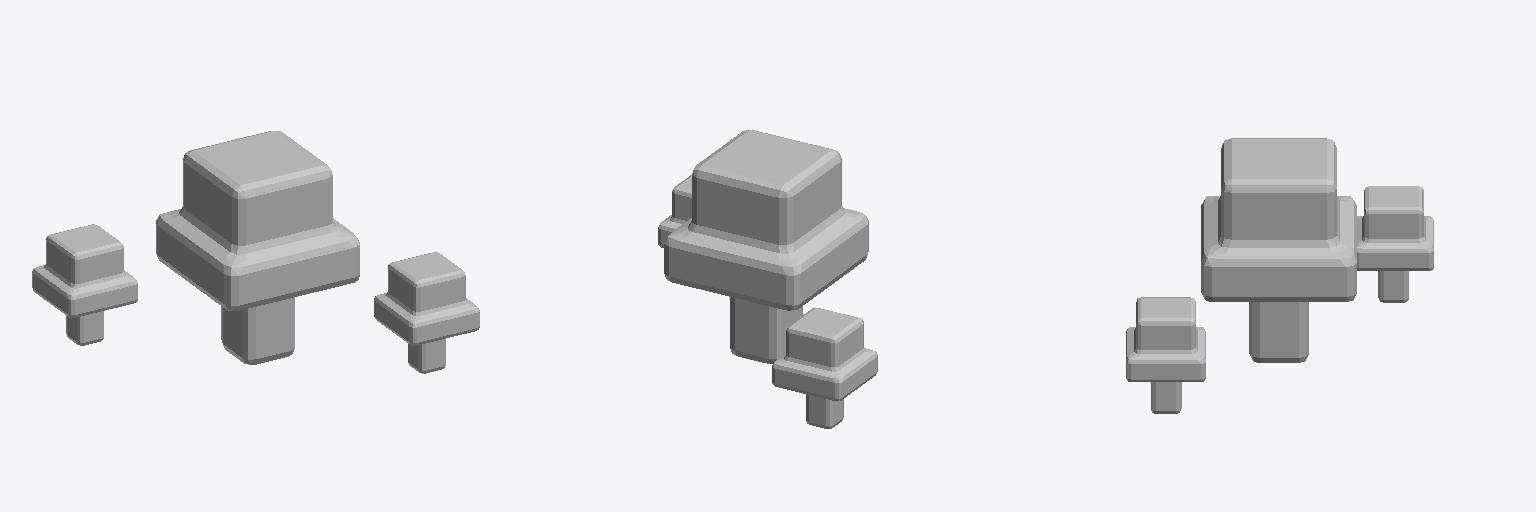
File: Mushroom.obj
The picture shows the model from 3 angles: view 1: azimuth 30°, elevation 25°; view 2: azimuth 150°, elevation 25°; view 3: azimuth 270°, elevation 25°; orthographic projection.
Parts seen in each view (by area): view 1: Mushroom_Cube.508; view 2: Mushroom_Cube.508; view 3: Mushroom_Cube.508.
Part boxes in pixels (x1,y1,x2,y2): Mushroom_Cube.508: (32,131,479,373); Mushroom_Cube.508: (658,130,877,428); Mushroom_Cube.508: (1126,138,1433,413).
Bounding box in the file's own units: 1.8 × 1.13 × 1.62.